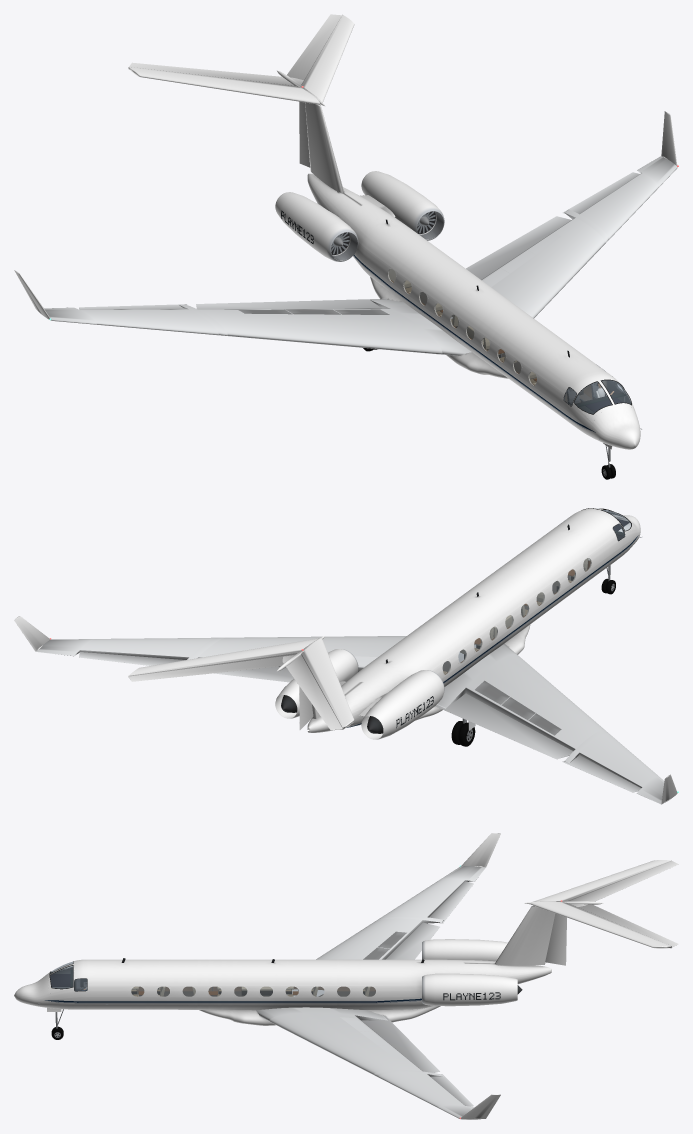
3 views of the same model, one above another, from view 1: azimuth 30°, elevation 25°; view 2: azimuth 150°, elevation 25°; view 3: azimuth 270°, elevation 25° (orthographic). The views are drawn at different scales.
Parts seen in each view (by area): view 1: body, canopy, flapL, flapR, elevR, elevL, spoilerL, spoilerR; view 2: body, flapR, elevR, elevL, canopy, spoilerR, ailR, ailL, flapL, wheelR; view 3: body, canopy, flapL, elevR, flapR, rudder, elevL, ailR, spoilerL.
Boxes of the visible parts, x1,y1,x2,y2 form: body: [14, 14, 678, 449]; canopy: [388, 269, 630, 413]; flapL: [466, 216, 571, 279]; flapR: [196, 298, 386, 309]; elevR: [128, 62, 303, 85]; elevL: [287, 14, 341, 84]; spoilerL: [483, 232, 561, 286]; spoilerR: [238, 309, 389, 314]; body: [14, 508, 678, 804]; flapR: [435, 693, 572, 759]; elevR: [282, 655, 342, 730]; elevL: [128, 654, 294, 681]; canopy: [443, 508, 630, 674]; spoilerR: [475, 680, 561, 735]; ailR: [562, 755, 641, 792]; ailL: [79, 652, 185, 665]; flapL: [214, 666, 293, 682]; wheelR: [451, 721, 475, 746]; body: [14, 833, 671, 1119]; canopy: [50, 961, 375, 996]; flapL: [361, 1015, 439, 1072]; elevR: [570, 861, 678, 906]; flapR: [386, 922, 439, 959]; rudder: [545, 913, 566, 965]; elevL: [578, 904, 678, 947]; ailR: [429, 881, 473, 923]; spoilerL: [340, 1017, 406, 1059].
Bounding box in the file's own units: 31.05 × 7.67 × 33.34.
